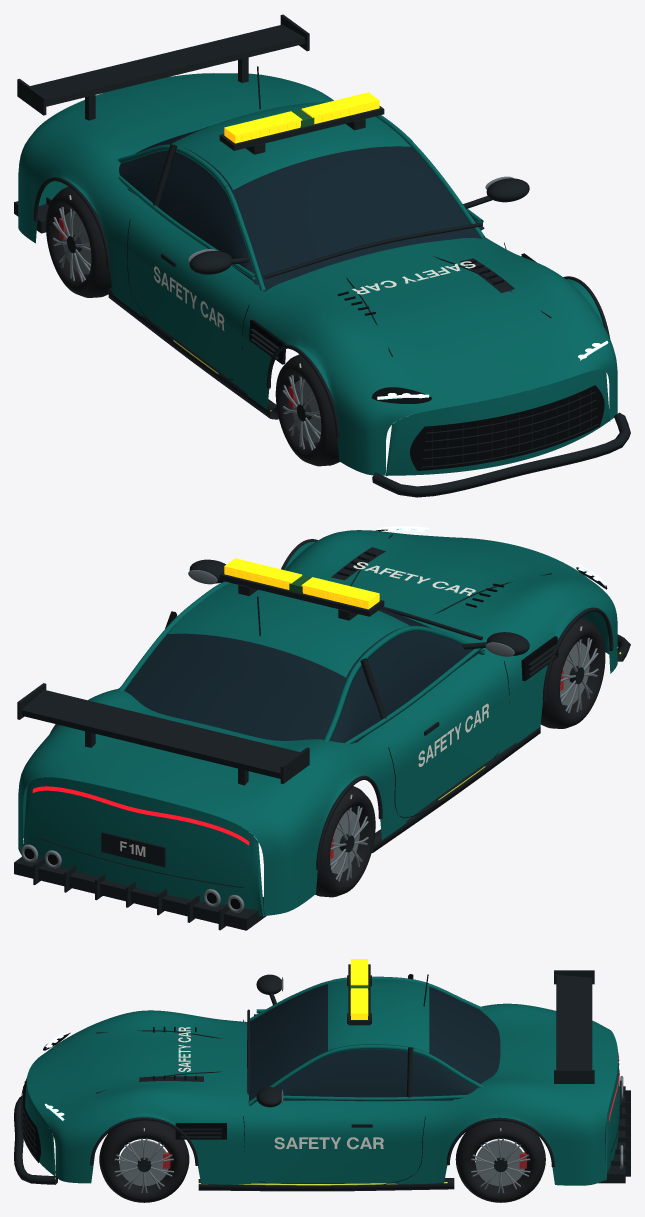
The model's file is F1M_SafetyCar_SC1.glb.
3 views of the same model, one above another, from view 1: azimuth 30°, elevation 25°; view 2: azimuth 150°, elevation 25°; view 3: azimuth 270°, elevation 25° (orthographic). The views are drawn at different scales.
Visible parts, largest first — view 1: SC_Paint_Batch, SC_Glass_Batch, SC_Carbon_Batch, SC_Grille_Batch, SC_Tyre_Batch (×2), SC_Alloy_Batch (×2), SC_Amber_Left_Batch, SC_Amber_Right_Batch, SC_Lettering_Batch; view 2: SC_Paint_Batch, SC_Carbon_Batch, SC_Glass_Batch, SC_Tyre_Batch (×2), SC_Alloy_Batch (×3), SC_Grille_Batch, SC_Amber_Left_Batch, SC_Lettering_Batch, SC_Amber_Right_Batch, SC_Tail_Batch; view 3: SC_Paint_Batch, SC_Glass_Batch, SC_Carbon_Batch, SC_Tyre_Batch (×2), SC_Alloy_Batch (×2), SC_Grille_Batch, SC_Lettering_Batch, SC_Amber_Right_Batch, SC_Amber_Left_Batch, SC_Lime_Batch.
Boxes of the visible parts, <box> form: SC_Paint_Batch: <box>18,73,617,476</box>; SC_Glass_Batch: <box>119,125,484,291</box>; SC_Carbon_Batch: <box>14,14,630,497</box>; SC_Grille_Batch: <box>127,219,604,470</box>; SC_Tyre_Batch (×2): <box>46,186,339,466</box>; SC_Alloy_Batch (×2): <box>52,207,321,450</box>; SC_Amber_Left_Batch: <box>224,111,302,143</box>; SC_Amber_Right_Batch: <box>301,92,379,124</box>; SC_Lettering_Batch: <box>154,261,475,330</box>; SC_Paint_Batch: <box>18,530,617,916</box>; SC_Carbon_Batch: <box>14,534,630,930</box>; SC_Glass_Batch: <box>119,608,484,742</box>; SC_Tyre_Batch (×2): <box>315,617,605,897</box>; SC_Alloy_Batch (×3): <box>21,570,598,912</box>; SC_Grille_Batch: <box>24,529,607,909</box>; SC_Amber_Left_Batch: <box>301,577,379,609</box>; SC_Lettering_Batch: <box>120,562,488,856</box>; SC_Amber_Right_Batch: <box>224,558,302,589</box>; SC_Tail_Batch: <box>32,786,249,845</box>; SC_Paint_Batch: <box>25,976,619,1185</box>; SC_Glass_Batch: <box>247,984,500,1101</box>; SC_Carbon_Batch: <box>14,964,630,1191</box>; SC_Tyre_Batch (×2): <box>99,1120,545,1202</box>; SC_Alloy_Batch (×2): <box>114,1138,530,1193</box>; SC_Grille_Batch: <box>23,1019,619,1188</box>; SC_Lettering_Batch: <box>178,1027,383,1149</box>; SC_Amber_Right_Batch: <box>350,988,368,1019</box>; SC_Amber_Left_Batch: <box>350,959,368,985</box>; SC_Lime_Batch: <box>55,1177,447,1185</box>.
Size of the model in its own units: 2.29 by 1.5 by 4.68.
